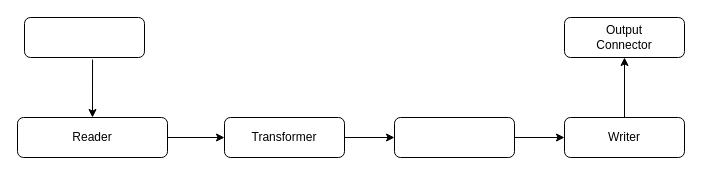
This 702x175 diagram has some shape labels left out. Here are the shapes that lost their labels. From the top down, the box of each, then its label:
(24, 16, 144, 58): Input Connector
(394, 116, 514, 158): Aggregator (Reducer)
